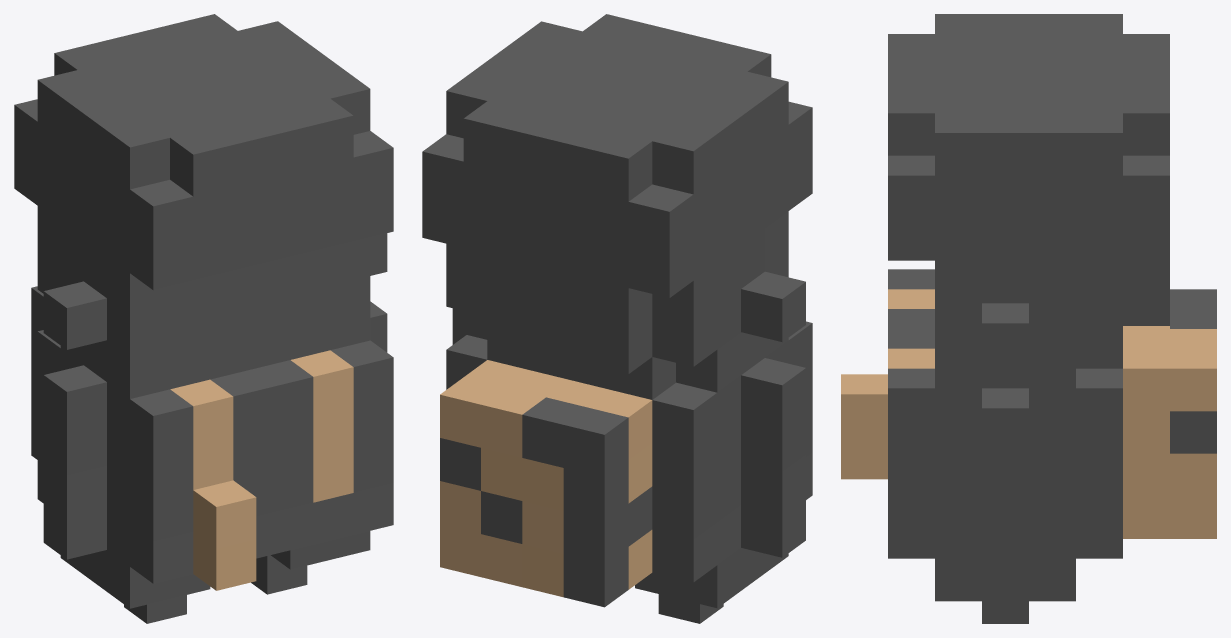
Rendered from chr_army2.obj.
3 views of the same model, side by side, from view 1: azimuth 30°, elevation 25°; view 2: azimuth 150°, elevation 25°; view 3: azimuth 270°, elevation 25° (orthographic). The views are drawn at different scales.
Size of the model in its own units: 8 by 12 by 8.
